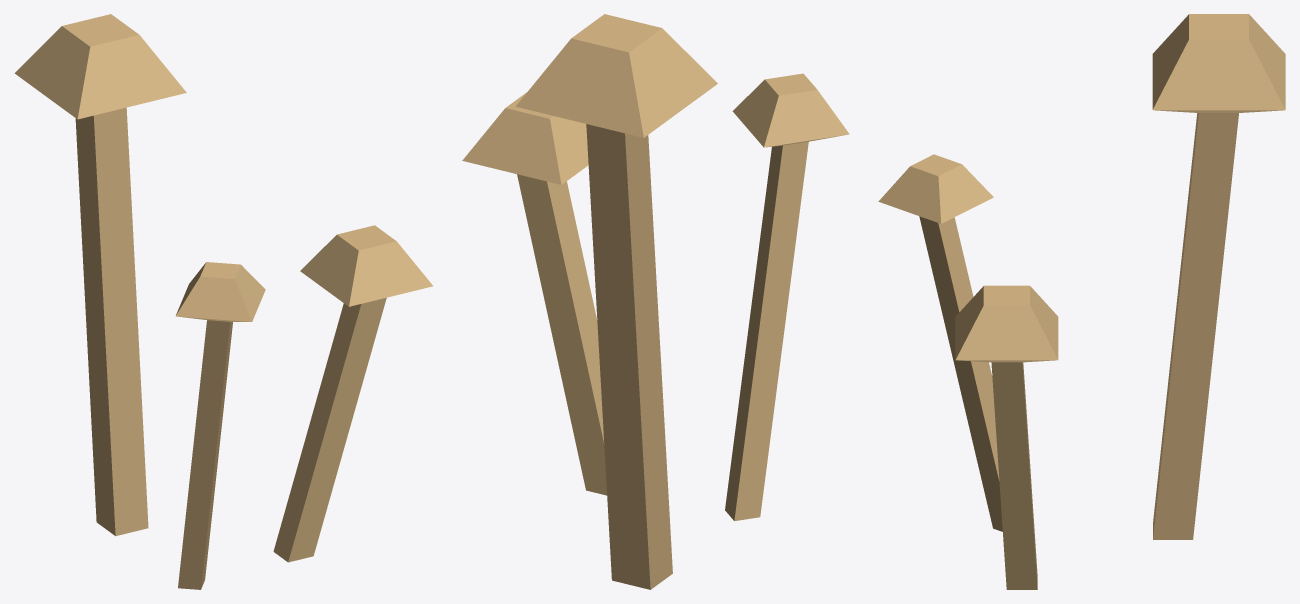
Rendered from Mega_Asset_s_Pack_Cube_367.FBX.
3 renders of one model, left to right at view 1: azimuth 30°, elevation 25°; view 2: azimuth 150°, elevation 25°; view 3: azimuth 270°, elevation 25°, orthographic. The views are drawn at different scales.
Parts seen in each view (by area): view 1: Mega_Asset_s_Pack_Cube_367; view 2: Mega_Asset_s_Pack_Cube_367; view 3: Mega_Asset_s_Pack_Cube_367.
Part boxes in pixels (x1,y1,x2,y2): Mega_Asset_s_Pack_Cube_367: (14,14,432,589); Mega_Asset_s_Pack_Cube_367: (462,14,849,589); Mega_Asset_s_Pack_Cube_367: (878,14,1285,589).
Size of what is drawn, in the model's own units: 53.01 by 65.79 by 90.11.
